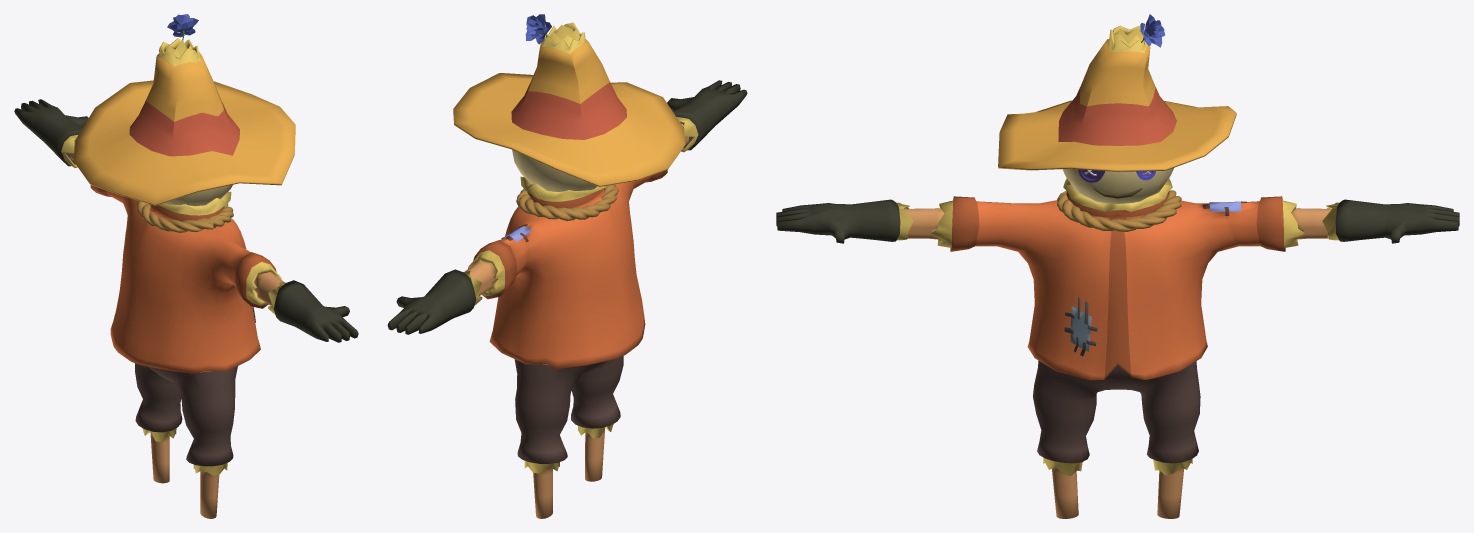
File: scareyv1.5.fbx
3 renders of one model, left to right at view 1: azimuth 30°, elevation 25°; view 2: azimuth 150°, elevation 25°; view 3: azimuth 270°, elevation 25°, orthographic. The views are drawn at different scales.
Visible parts, largest first — view 1: Cube.001, Cube.007, Circle, Cube.005, Flower01Plant; view 2: Cube.001, Cube.007, Cube.005, Circle, Flower01Plant; view 3: Cube.001, Cube.007, Cube.005, Circle.
Part boxes in pixels (x1,y1,x2,y2): Cube.001: (14, 99, 358, 518); Cube.007: (73, 38, 295, 205); Circle: (136, 200, 233, 232); Cube.005: (162, 184, 232, 206); Flower01Plant: (167, 14, 198, 40); Cube.001: (387, 80, 747, 518); Cube.007: (453, 22, 685, 186); Cube.005: (512, 149, 597, 191); Circle: (516, 184, 618, 221); Flower01Plant: (525, 14, 551, 44); Cube.001: (776, 178, 1459, 518); Cube.007: (998, 25, 1236, 171); Cube.005: (1062, 168, 1173, 203); Circle: (1057, 190, 1181, 231).
Bounding box in the file's own units: 112 × 264 × 323.
